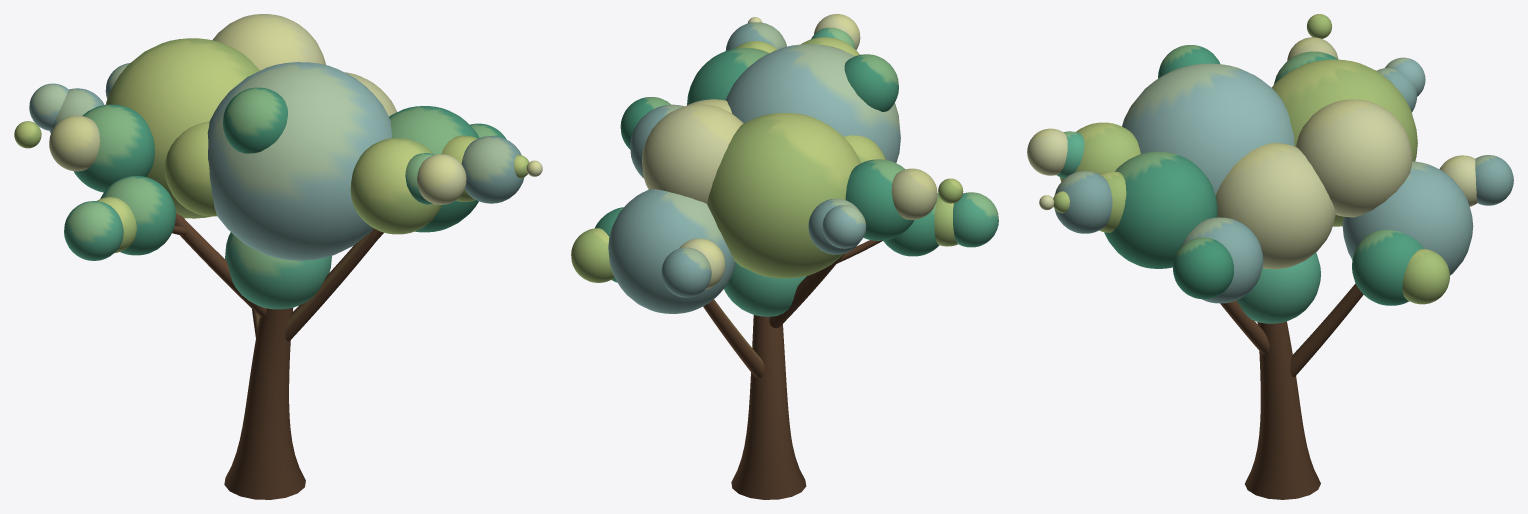
Rendered from canopy-tree.obj.
3 views of the same model, side by side, from view 1: azimuth 30°, elevation 25°; view 2: azimuth 150°, elevation 25°; view 3: azimuth 270°, elevation 25° (orthographic). The views are drawn at different scales.
Visible parts, largest first — view 1: tree; view 2: tree; view 3: tree.
Boxes of the visible parts, x1,y1,x2,y2 form: tree: (14,14,542,499); tree: (571,14,998,499); tree: (1027,14,1513,499).
Size of the model in its own units: 462 by 455 by 489.
